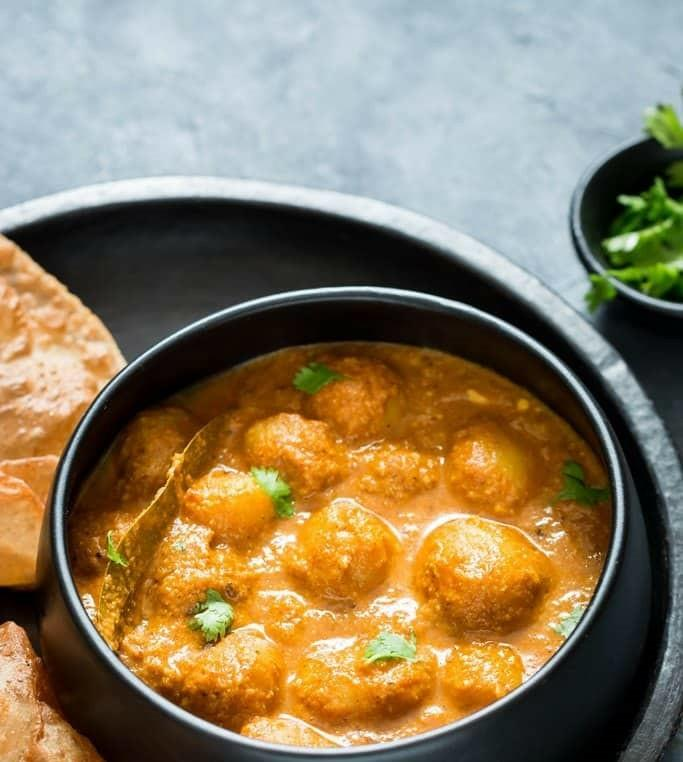DumAloo: (65, 333, 615, 742)
